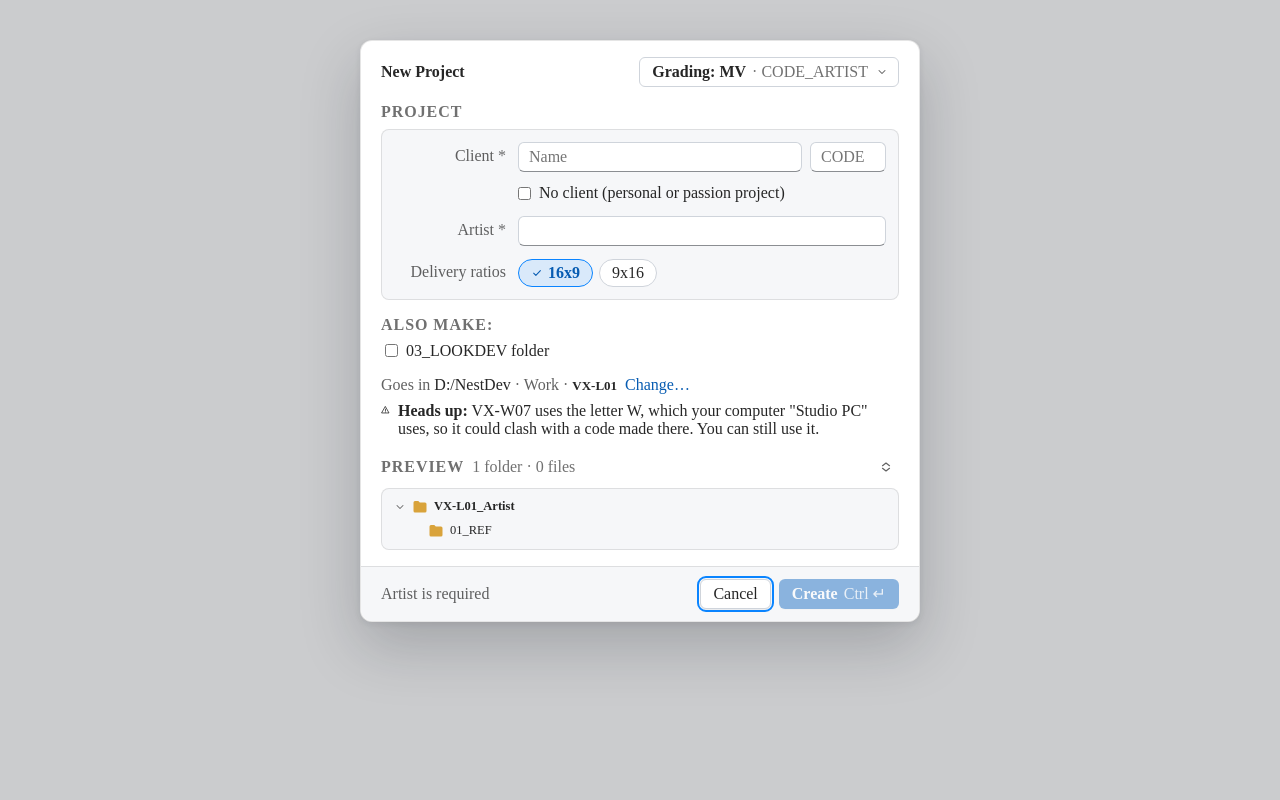
Test: NewProjectSheet › a typed code with another computer's letter warns in plain words and never blocks Create
The width and height of the screenshot is (1280, 800).
Expected: the text "VX-W07 uses the letter W, which your computer \"Studio PC\" uses, so it could clash with a code made there. You can still " shows "Heads up:", [398,402,468,418]
Step 1. Click the button "Change…" → click(658, 384), box [625,376,690,394]
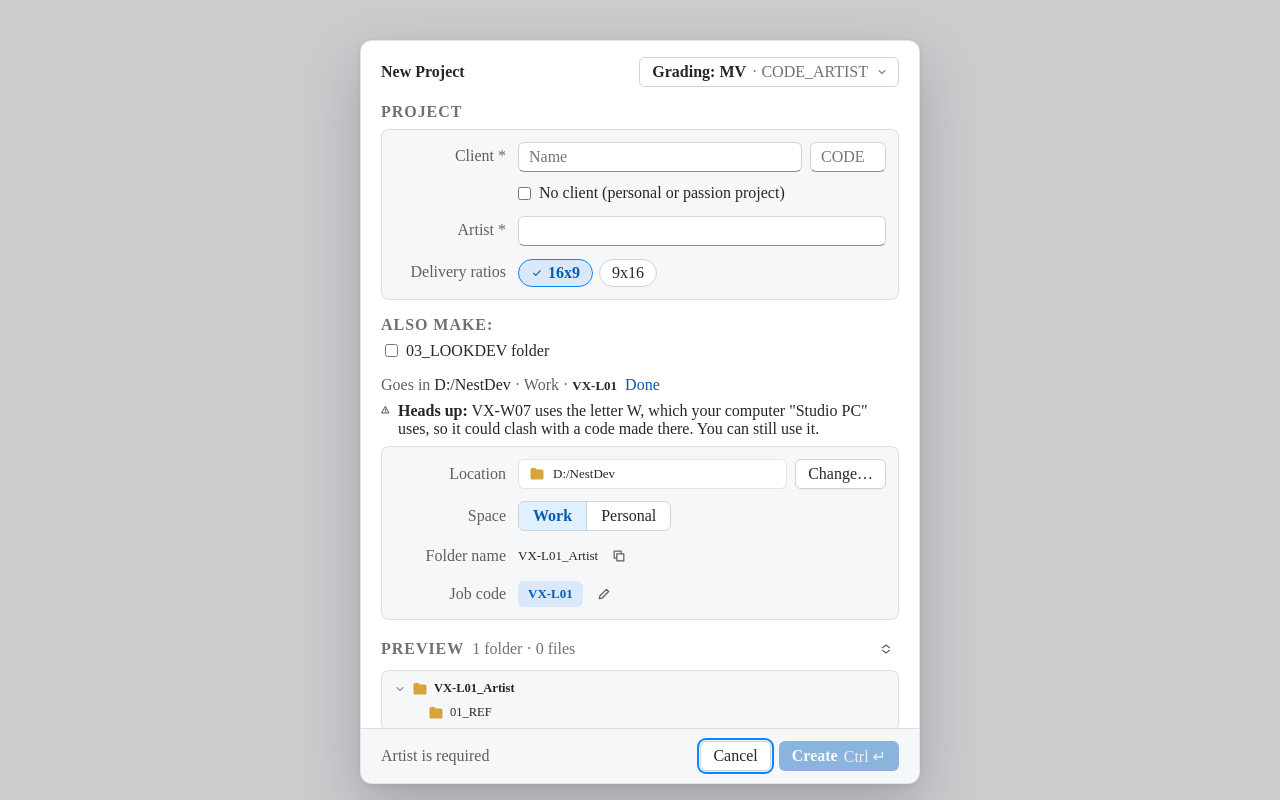
Step 2. Click the button named "Edit job code" → click(604, 594), box [591,580,617,606]
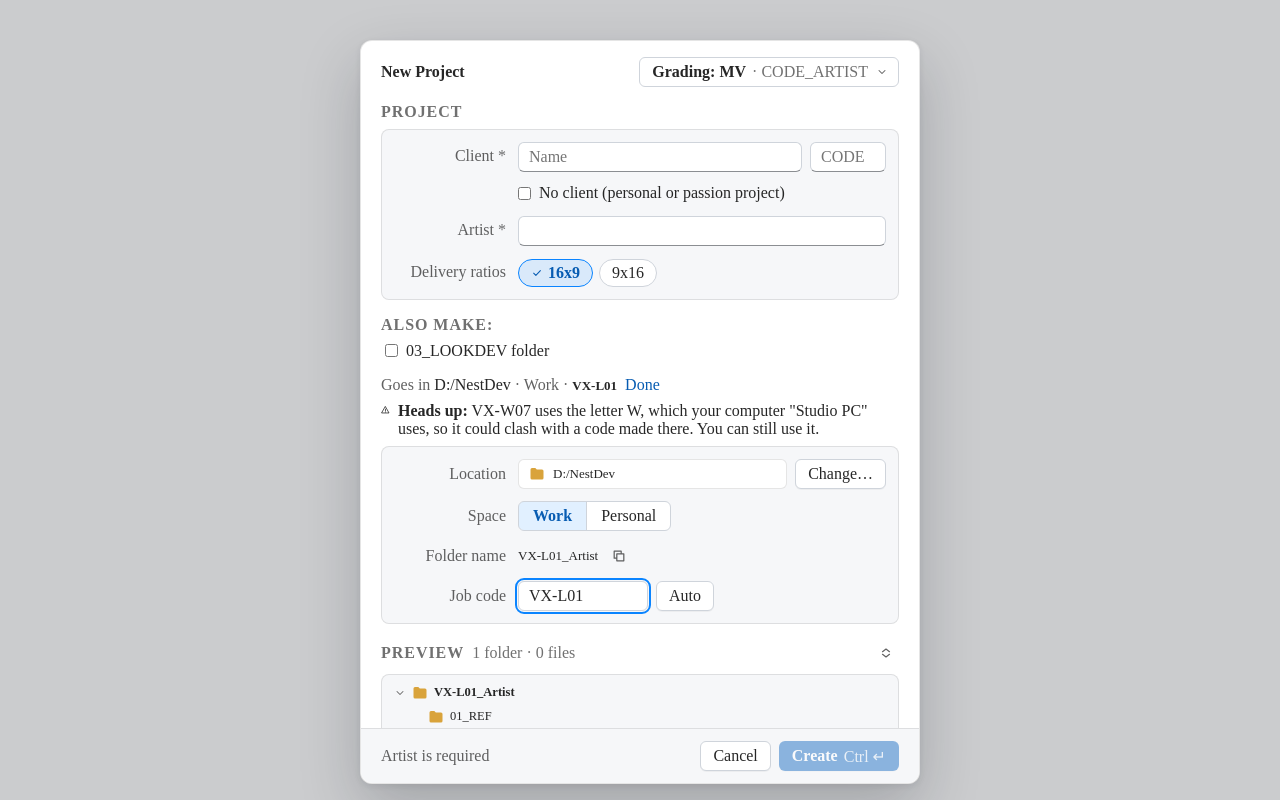
Step 3. Type "KIRA" into the field labelled "Artist *" → (702, 230), box [518,216,886,246]
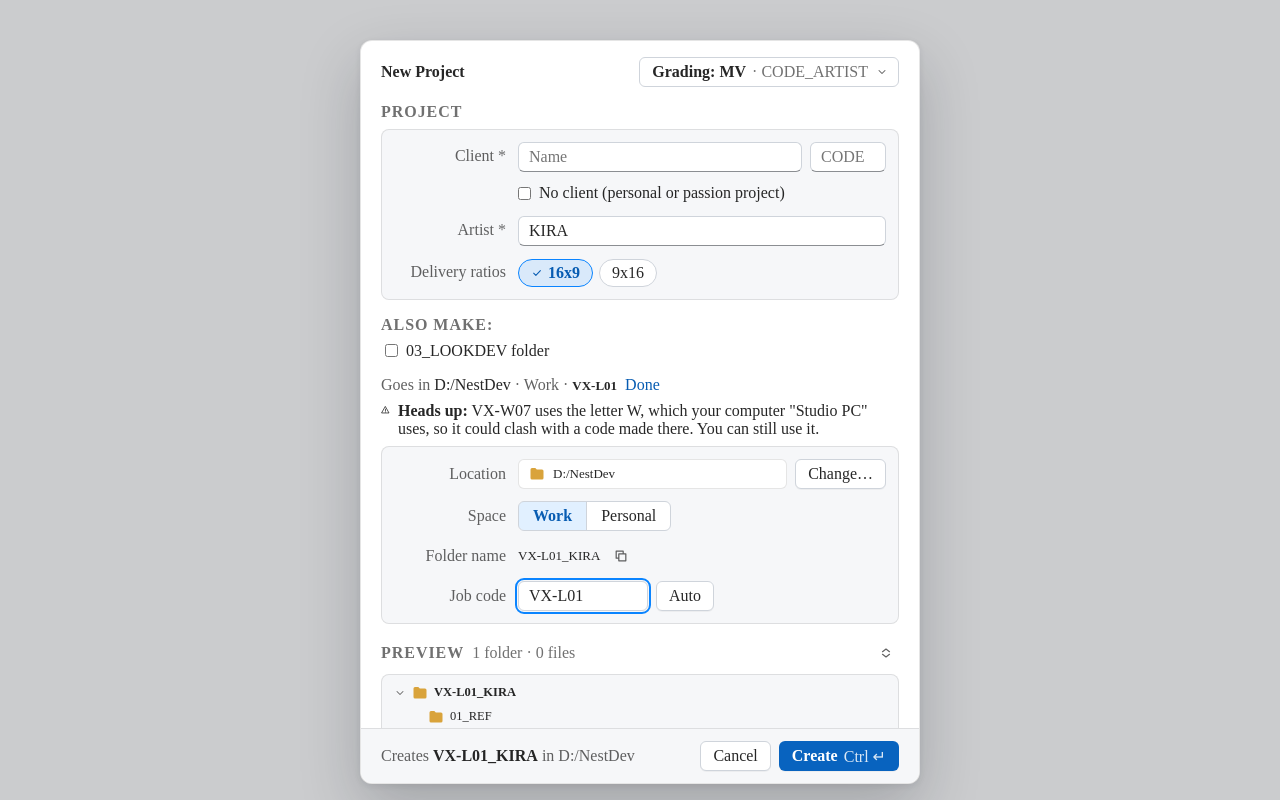
Expected: the button "Create Ctrl ↵" is enabled, [779,741,899,771]
